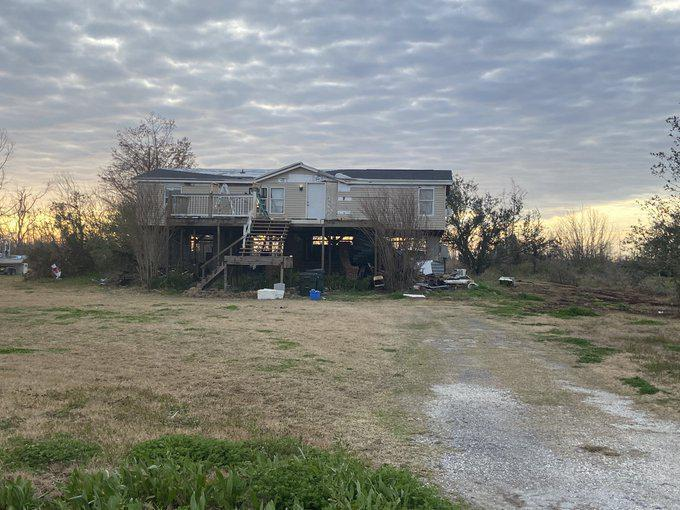major: (131, 152, 469, 298)
